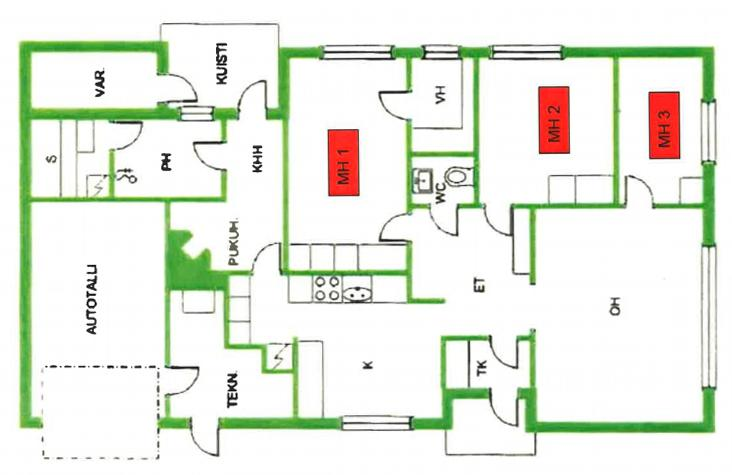bathroom: (411, 154, 477, 202)
door: (156, 71, 200, 106), (477, 201, 515, 238), (188, 418, 223, 458), (373, 211, 415, 243), (378, 88, 414, 124), (486, 336, 521, 372), (163, 363, 200, 397), (108, 120, 147, 152), (490, 387, 521, 427), (427, 203, 462, 238), (622, 173, 655, 210), (248, 240, 281, 277), (236, 79, 269, 114)
perimeter: (19, 39, 716, 434)
window: (696, 242, 719, 394), (336, 413, 417, 434), (700, 95, 720, 169), (486, 44, 569, 61), (317, 43, 397, 60), (414, 46, 467, 61), (177, 106, 217, 125)
